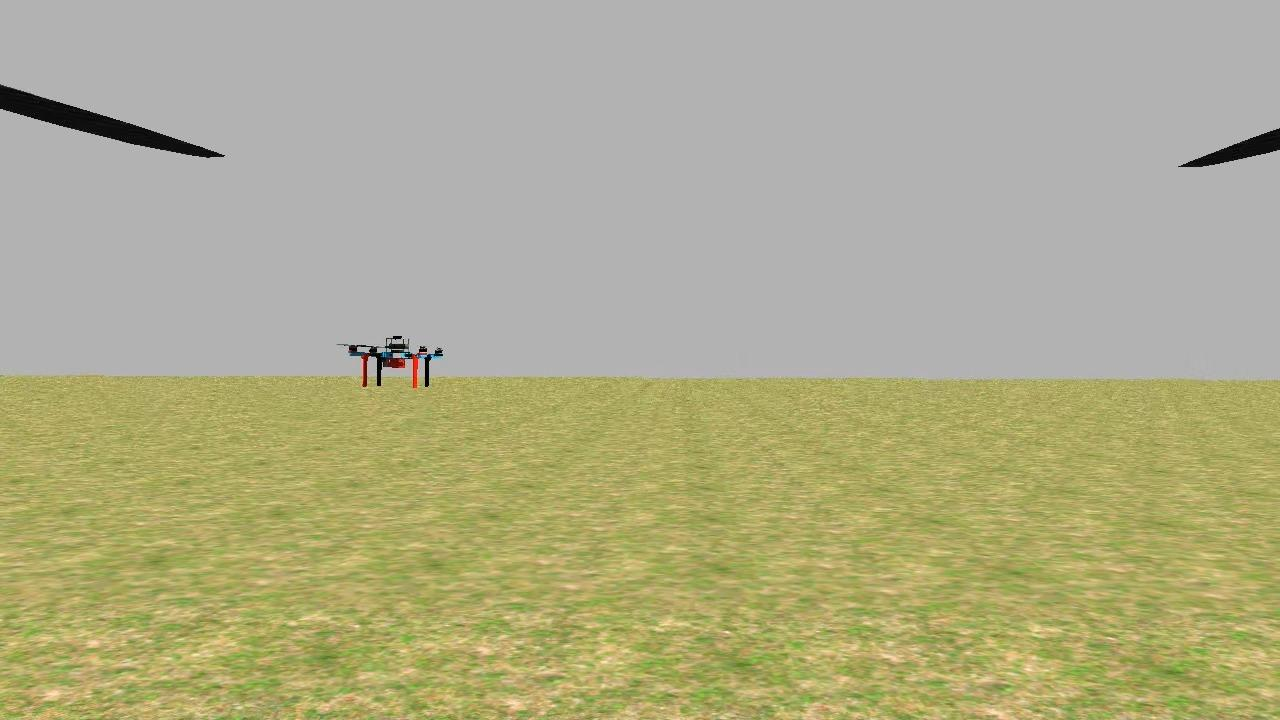UAV: (336, 330, 456, 391)
